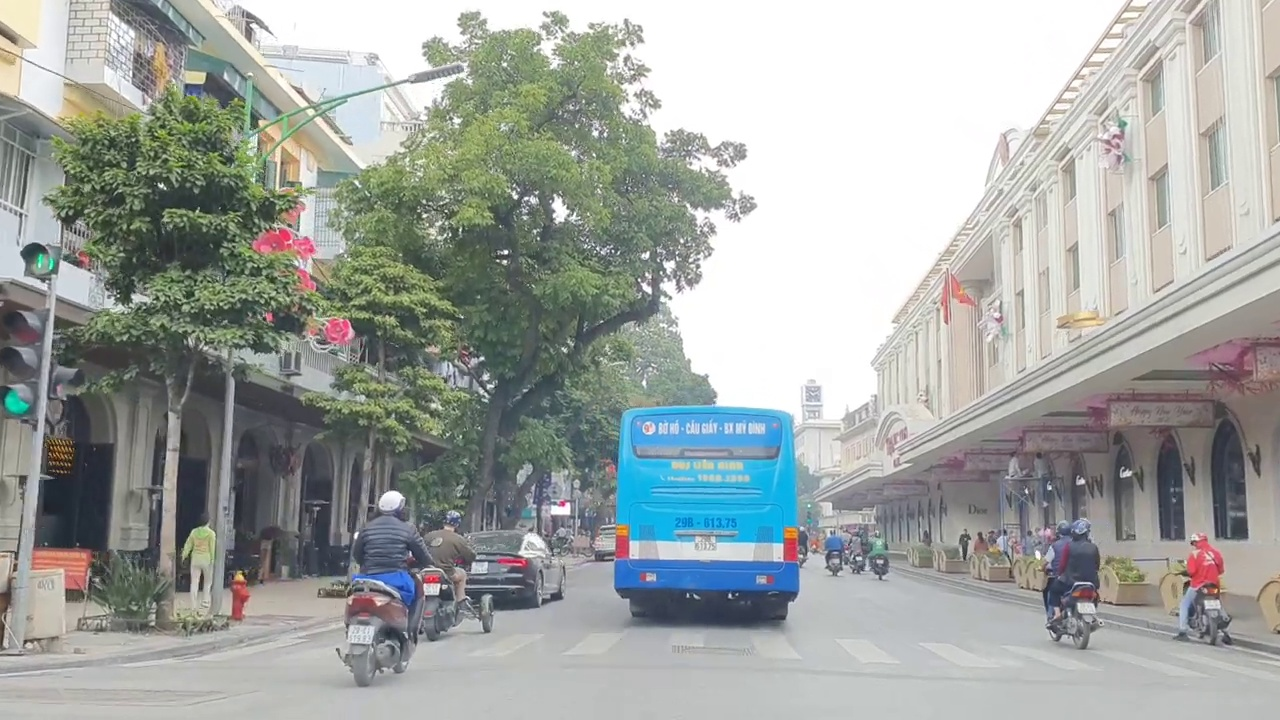vehicle-plate: (691, 533, 719, 552), (349, 625, 374, 643), (1076, 600, 1097, 614), (470, 558, 488, 573), (423, 582, 442, 596), (1204, 599, 1220, 609)
